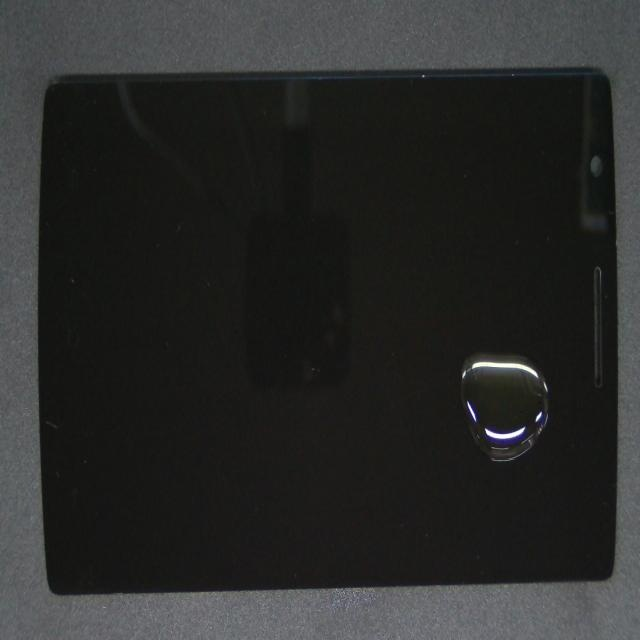oil: (229, 183, 640, 551)
